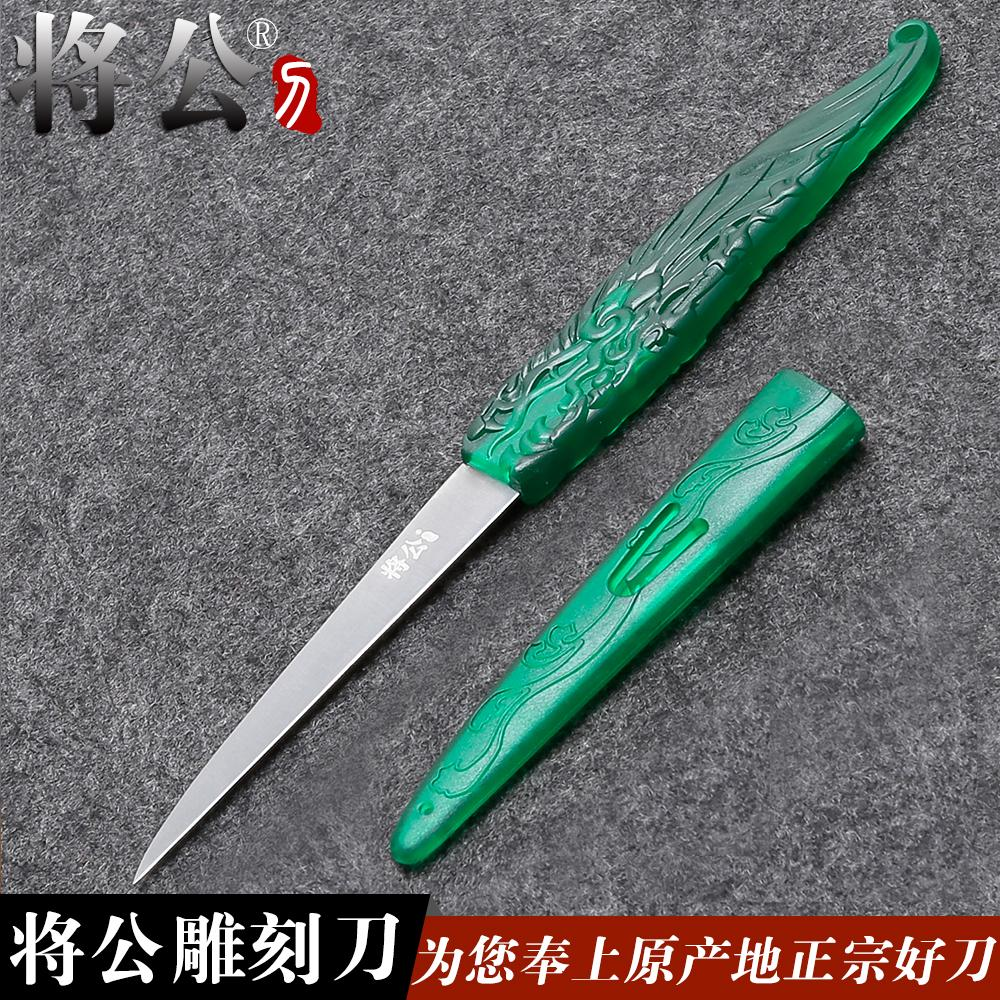knife: (107, 12, 863, 913)
